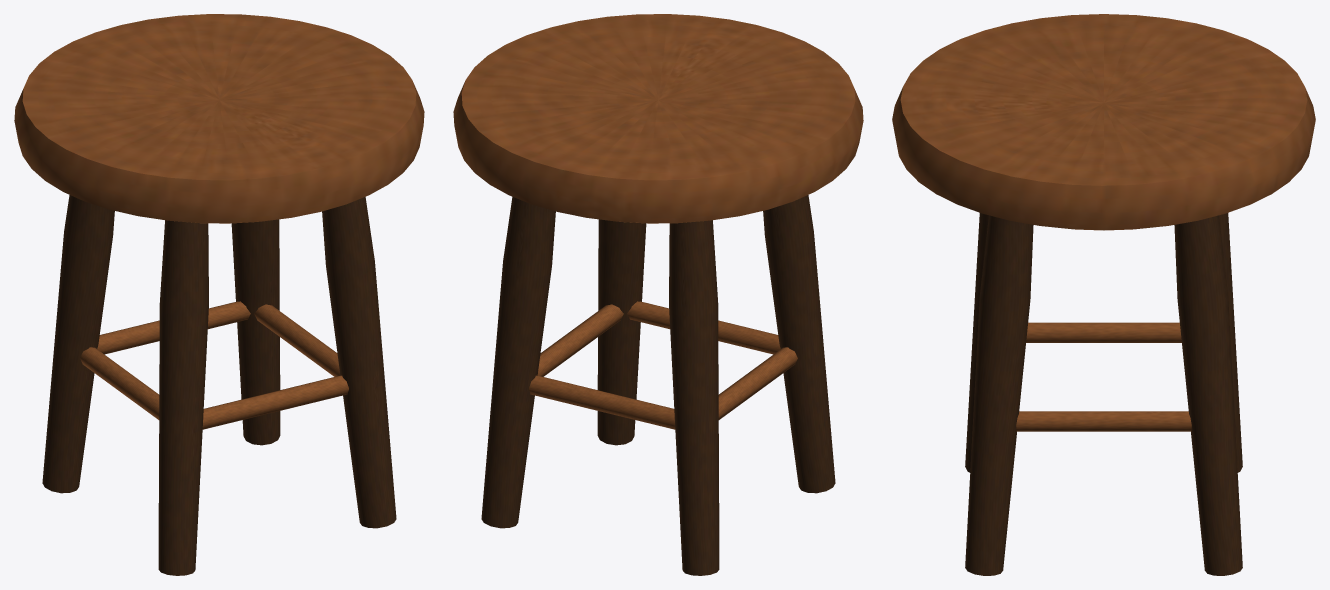
File: stool.glb
3 views of the same model, side by side, from view 1: azimuth 30°, elevation 25°; view 2: azimuth 150°, elevation 25°; view 3: azimuth 270°, elevation 25° (orthographic). The views are drawn at different scales.
Visible parts, largest first — view 1: stool; view 2: stool; view 3: stool.
Part boxes in pixels (left/top/right/bottom): stool: left=14, top=14, right=424, bottom=575; stool: left=453, top=14, right=863, bottom=575; stool: left=892, top=14, right=1315, bottom=575.
Size of the model in its own units: 0.4 by 0.44 by 0.4.
Materials: 2 (2 with a texture image).
